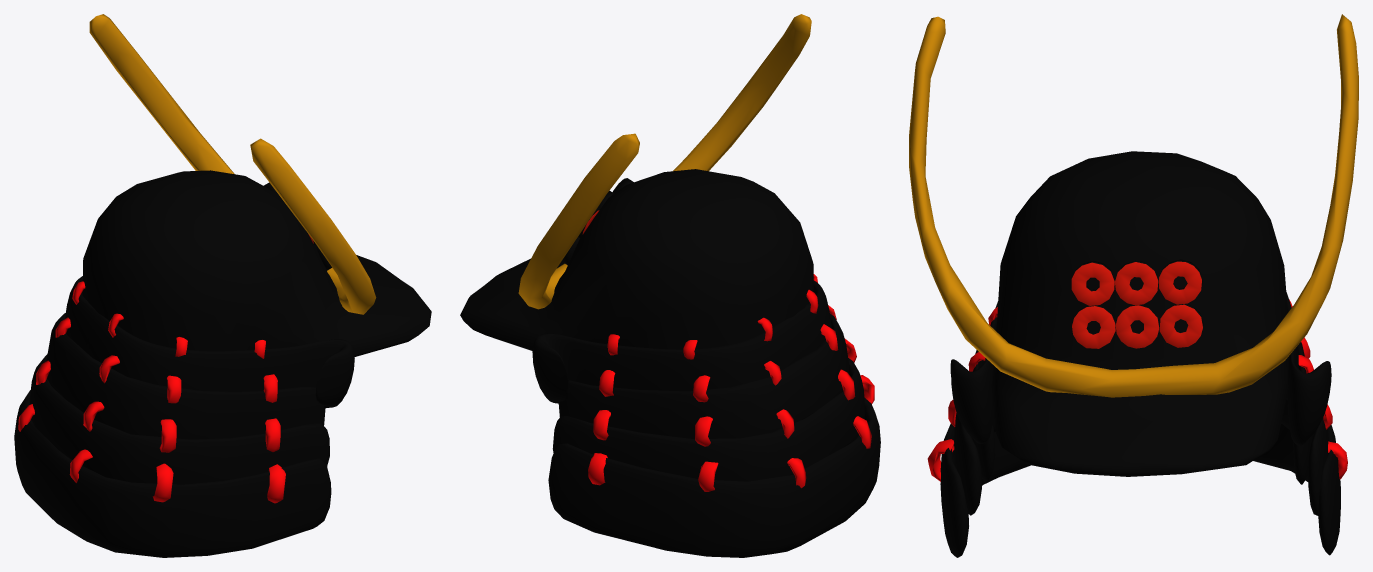
File: low poly helmet.fbx
The picture shows the model from 3 angles, left to right: view 1: azimuth 30°, elevation 25°; view 2: azimuth 150°, elevation 25°; view 3: azimuth 270°, elevation 25°; orthographic projection. The views are drawn at different scales.
Parts seen in each view (by area): view 1: Cube.004, Cube, Cube.001, Cube.006, Torus.003; view 2: Cube.004, Cube, Cube.001, Cube.006, Torus.003, Cylinder; view 3: Cube, Cube.006, Cube.004, Cylinder, Cube.001, Torus.003.
Part boxes in pixels (x1,y1,x2,y2): Cube.004: [14, 313, 331, 557]; Cube: [82, 170, 431, 356]; Cube.001: [65, 276, 354, 408]; Cube.006: [89, 14, 376, 314]; Torus.003: [18, 281, 285, 503]; Cube.004: [548, 314, 880, 557]; Cube: [460, 169, 813, 350]; Cube.001: [532, 280, 831, 403]; Cube.006: [518, 14, 811, 309]; Torus.003: [588, 274, 874, 491]; Cylinder: [561, 178, 633, 265]; Cube: [991, 151, 1288, 476]; Cube.006: [909, 14, 1358, 397]; Cube.004: [940, 342, 1340, 557]; Cylinder: [1071, 259, 1203, 348]; Cube.001: [950, 292, 1331, 445]; Torus.003: [927, 299, 1347, 481].
Bounding box in the file's own units: 210 × 235 × 187.
